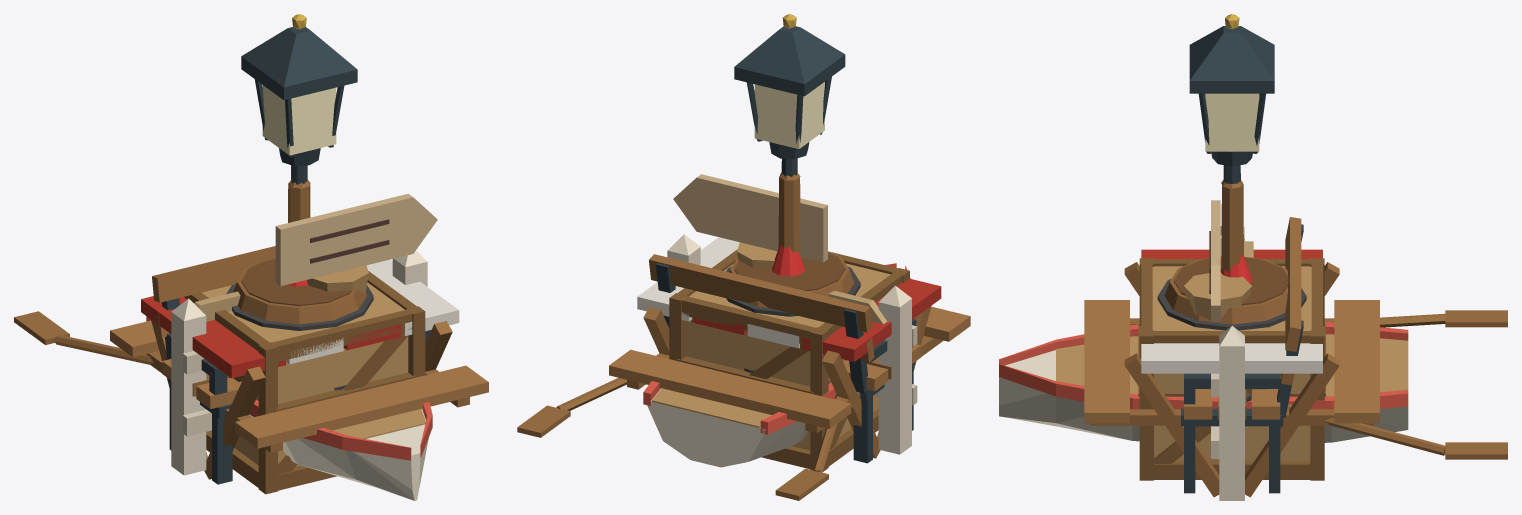
Rendered from placeables.glb.
3 views of the same model, side by side, from view 1: azimuth 30°, elevation 25°; view 2: azimuth 150°, elevation 25°; view 3: azimuth 270°, elevation 25° (orthographic). The views are drawn at different scales.
Visible parts, largest first — view 1: picnic_table_main, crate_main, rowboat_boat, signpost_main, lamp_bulb, bench_main, fence_main, barrel_main, lamp_main; view 2: picnic_table_main, crate_main, rowboat_boat, signpost_main, bench_main, lamp_bulb, fence_main, barrel_main, lamp_main, gnome_main; view 3: picnic_table_main, rowboat_boat, crate_main, lamp_bulb, bench_main, barrel_main, fence_main, signpost_main, lamp_main.
Part boxes in pixels (x1,y1,x2,y2): picnic_table_main: [110, 259, 488, 479]; crate_main: [184, 271, 425, 494]; rowboat_boat: [14, 311, 432, 500]; signpost_main: [194, 180, 437, 321]; lamp_bulb: [241, 14, 357, 155]; bench_main: [152, 246, 431, 484]; fence_main: [171, 250, 427, 475]; barrel_main: [226, 259, 373, 390]; lamp_main: [254, 79, 344, 184]; picnic_table_main: [609, 237, 970, 458]; crate_main: [669, 249, 909, 471]; rowboat_boat: [517, 263, 910, 500]; signpost_main: [673, 172, 887, 324]; bench_main: [649, 254, 920, 463]; lamp_bulb: [734, 14, 845, 148]; fence_main: [667, 234, 917, 454]; barrel_main: [726, 251, 860, 372]; lamp_main: [746, 76, 831, 176]; gnome_main: [772, 244, 804, 276]; picnic_table_main: [1084, 249, 1379, 497]; rowboat_boat: [999, 310, 1507, 459]; crate_main: [1139, 258, 1324, 480]; lamp_bulb: [1189, 14, 1274, 151]; bench_main: [1181, 217, 1303, 493]; barrel_main: [1157, 256, 1306, 330]; fence_main: [1211, 226, 1244, 500]; signpost_main: [1209, 180, 1253, 321]; lamp_main: [1198, 93, 1265, 183].
Size of the model in its own units: 1.2 by 1.69 by 1.79.
